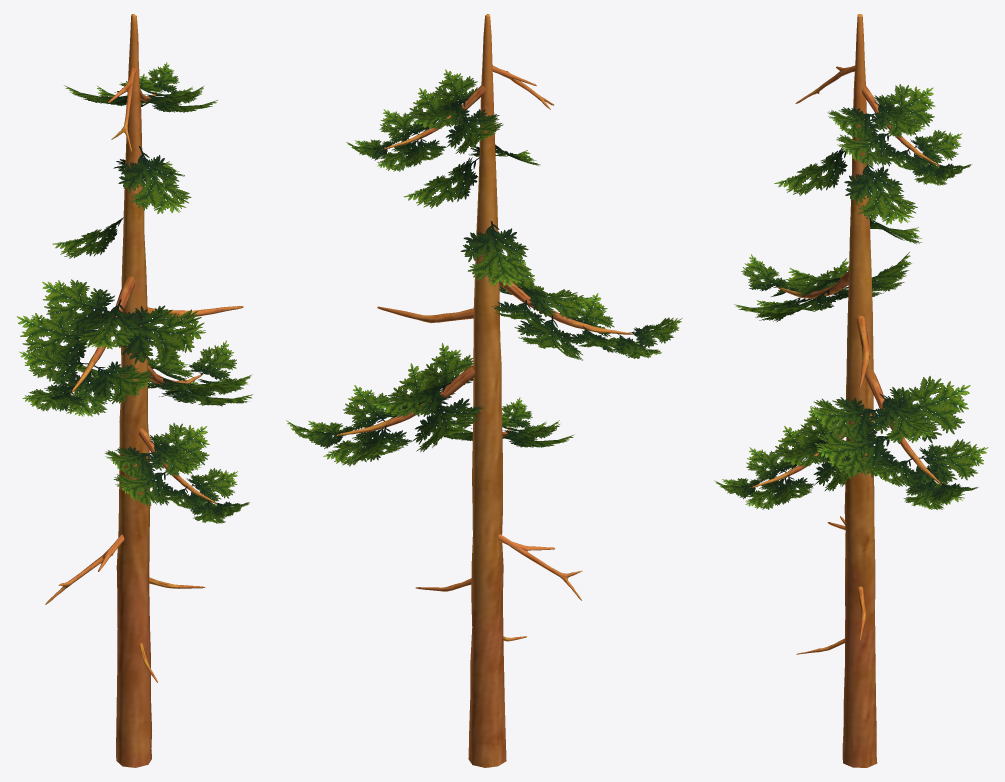
Rendered from Pine model  A (6).glb.
3 views of the same model, side by side, from view 1: azimuth 30°, elevation 25°; view 2: azimuth 150°, elevation 25°; view 3: azimuth 270°, elevation 25° (orthographic).
Visible parts, largest first — view 1: small_stylized_pine_var1; view 2: small_stylized_pine_var1; view 3: small_stylized_pine_var1.
Part boxes in pixels (bbox=[...]): small_stylized_pine_var1: bbox=[17, 14, 252, 767]; small_stylized_pine_var1: bbox=[286, 14, 682, 767]; small_stylized_pine_var1: bbox=[714, 14, 988, 767].
Size of the model in its own units: 346 by 830 by 280.
2 materials, 2 textured.
